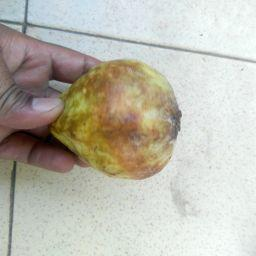guava: (50, 54, 185, 184)
